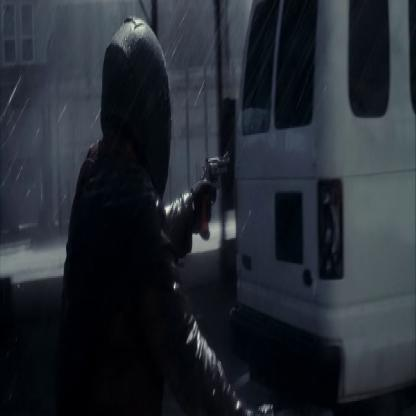Guns: (192, 143, 233, 240)
